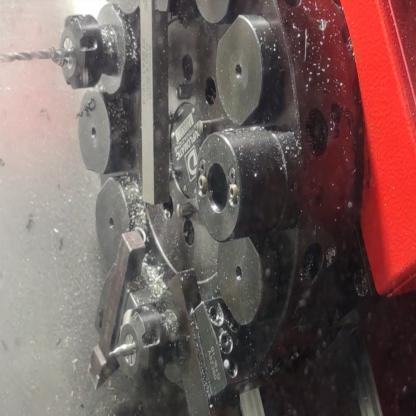bit: (163, 261, 264, 416), (82, 225, 167, 397), (134, 0, 185, 210)
